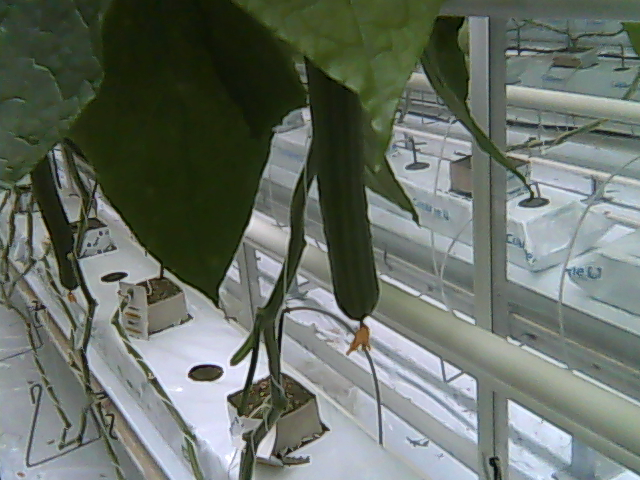concombre: (306, 57, 383, 357)
